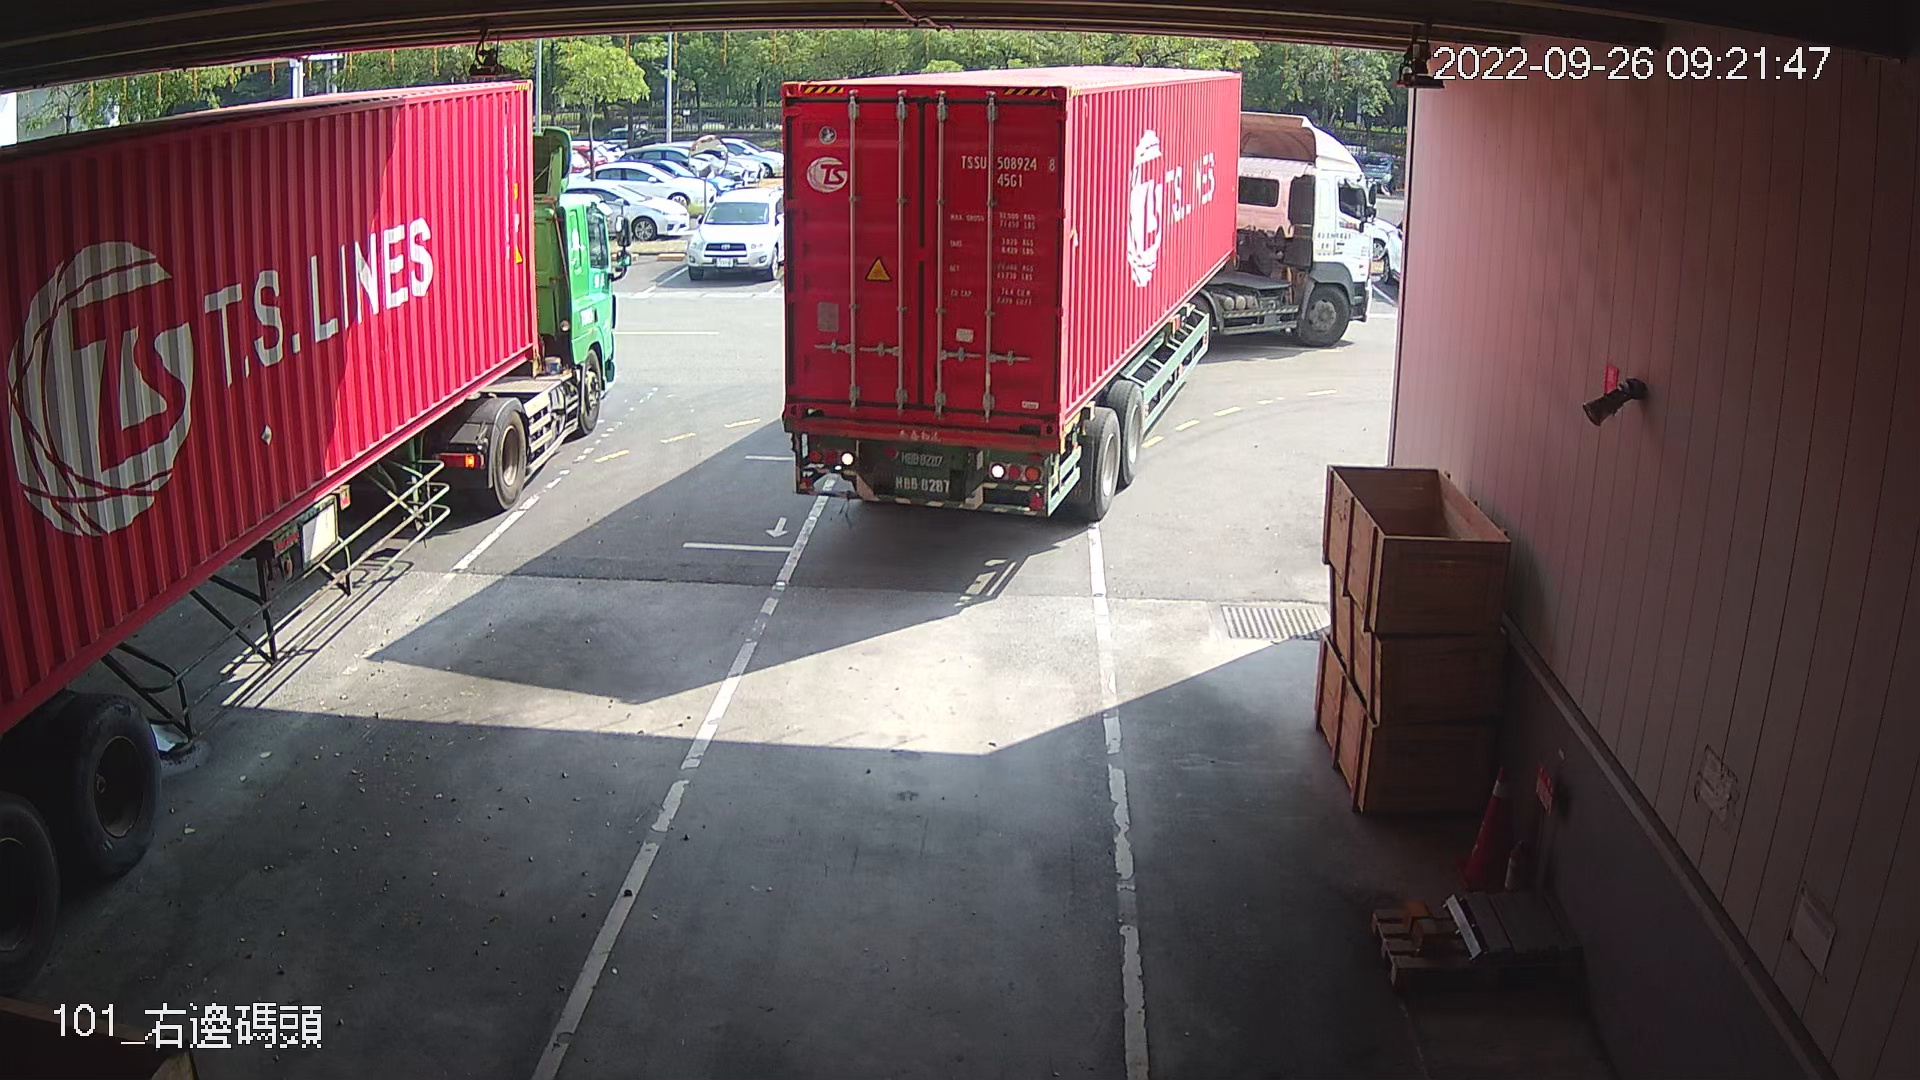container: (949, 148, 1059, 194)
